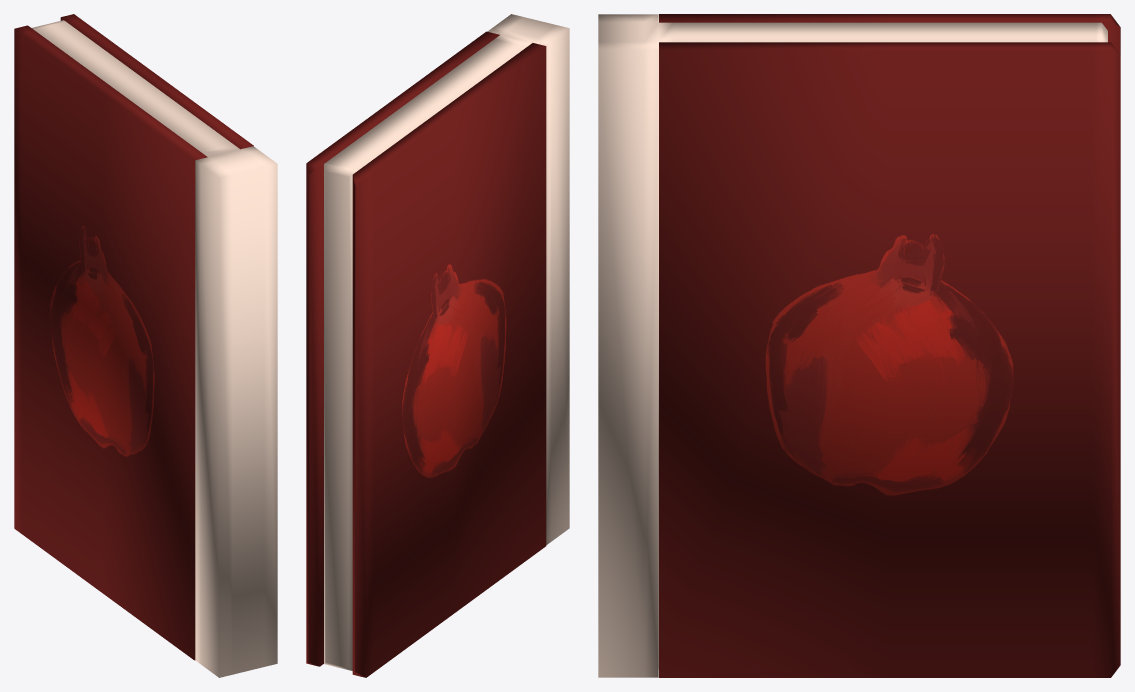
The model's file is Book4.fbx.
The picture shows the model from 3 angles, left to right: view 1: azimuth 30°, elevation 25°; view 2: azimuth 150°, elevation 25°; view 3: azimuth 270°, elevation 25°; orthographic projection. The views are drawn at different scales.
Parts seen in each view (by area): view 1: s.0138, s.0134, s.0135; view 2: s.0138, s.0134, s.0135; view 3: s.0135, s.0134, s.0138.
Boxes of the visible parts, x1=… form: s.0138: x1=14, y1=25, x2=207, y2=660; s.0134: x1=32, y1=20, x2=277, y2=677; s.0135: x1=60, y1=14, x2=253, y2=149; s.0138: x1=352, y1=43, x2=546, y2=677; s.0134: x1=324, y1=14, x2=569, y2=670; s.0135: x1=306, y1=31, x2=499, y2=666; s.0135: x1=659, y1=42, x2=1120, y2=677; s.0134: x1=598, y1=14, x2=1107, y2=677; s.0138: x1=659, y1=14, x2=1120, y2=54.
Bounding box in the file's own units: 1.88 × 15 × 11.31.
2 materials, 1 textured.
